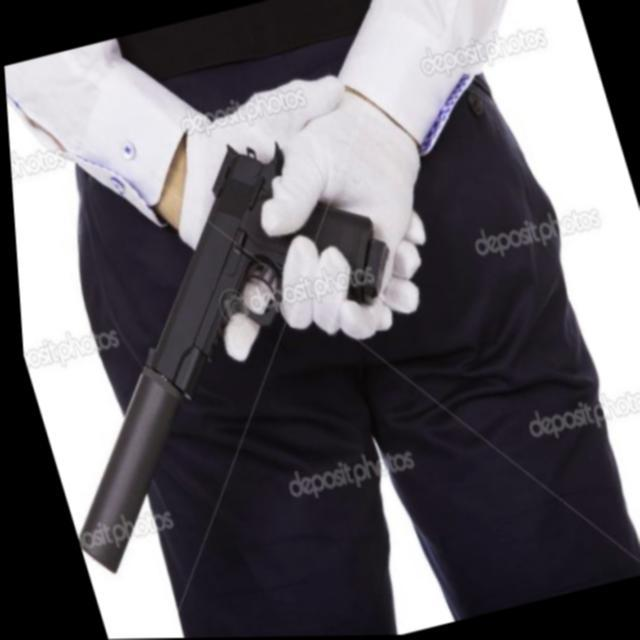weapon: (6, 112, 455, 579)
